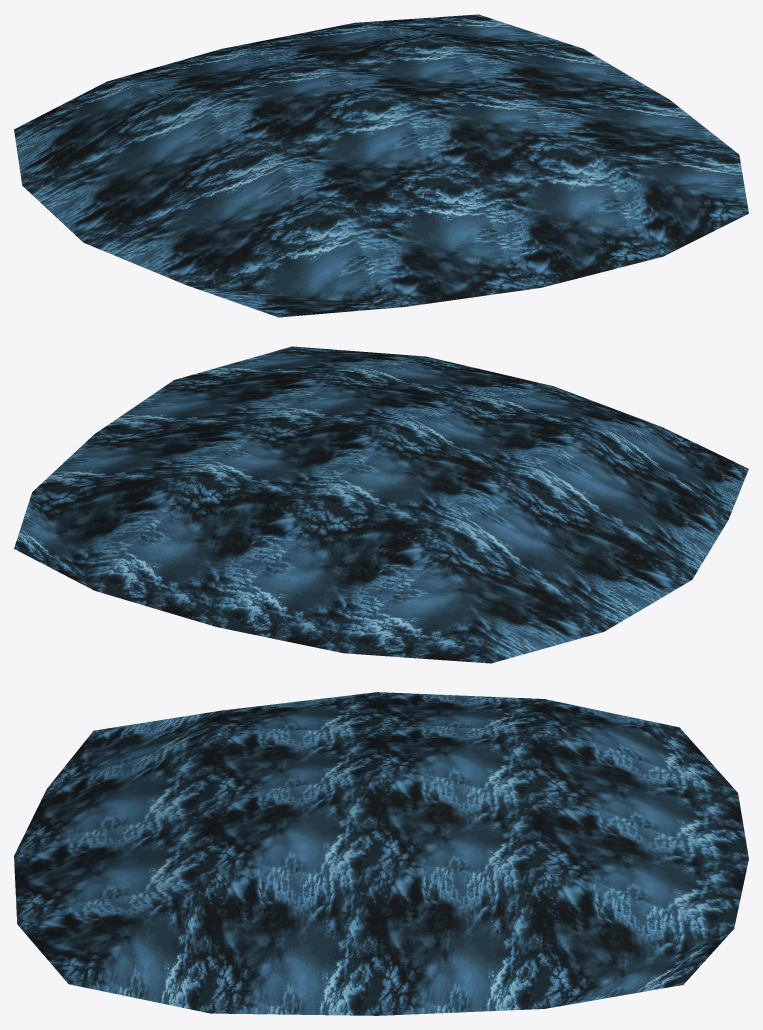
Rendered from sky.obj.
3 renders of one model, top to bottom at view 1: azimuth 30°, elevation 25°; view 2: azimuth 150°, elevation 25°; view 3: azimuth 270°, elevation 25°, orthographic. The views are drawn at different scales.
Parts seen in each view (by area): view 1: sky_nacht2; view 2: sky_nacht2; view 3: sky_nacht2.
Boxes of the visible parts, bbox=[...] form: sky_nacht2: bbox=[14, 14, 748, 317]; sky_nacht2: bbox=[14, 346, 748, 663]; sky_nacht2: bbox=[14, 692, 748, 1015].
Size of the model in its own units: 8838 by 1089 by 8479.
Materials: 1 (1 with a texture image).
